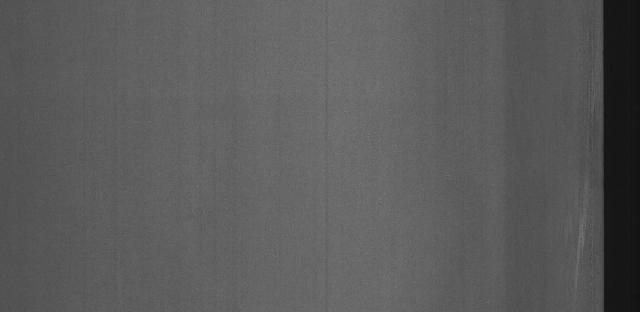silk_spot: (561, 25, 598, 299)
